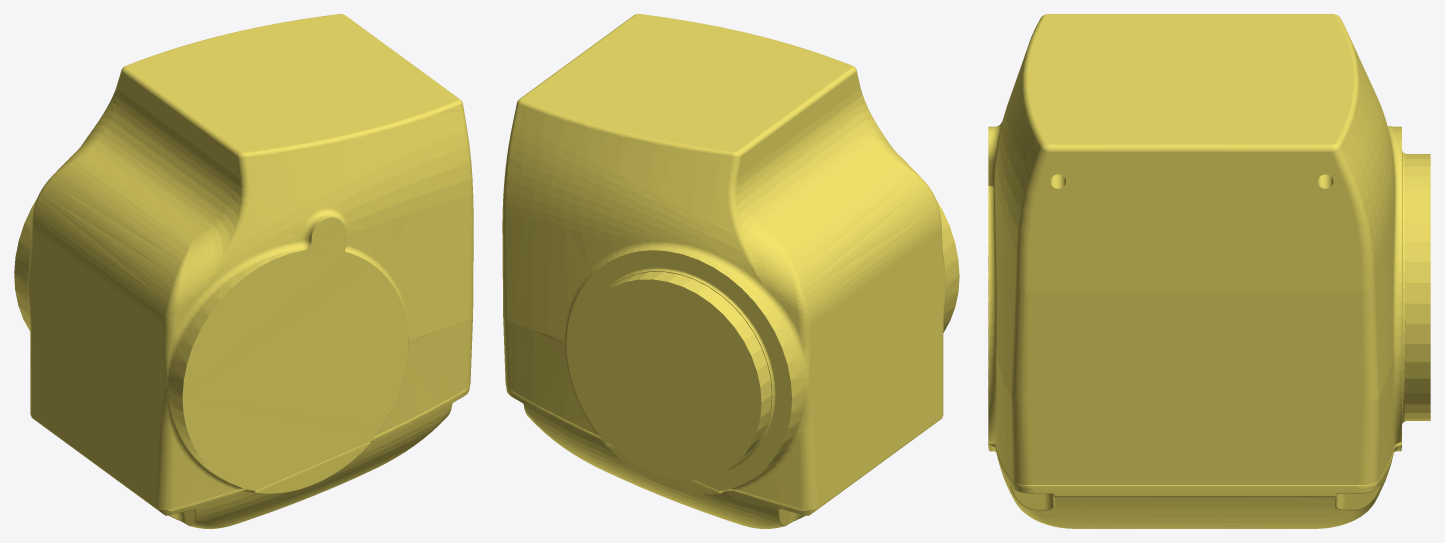
The model's file is FanucLRMate200iCLink3.dae.
The picture shows the model from 3 angles, left to right: view 1: azimuth 30°, elevation 25°; view 2: azimuth 150°, elevation 25°; view 3: azimuth 270°, elevation 25°; orthographic projection. The views are drawn at different scales.
Parts seen in each view (by area): view 1: Fanuc200iDLink3; view 2: Fanuc200iDLink3; view 3: Fanuc200iDLink3.
Boxes of the visible parts, x1,y1,x2,y2 form: Fanuc200iDLink3: (14, 14, 473, 528); Fanuc200iDLink3: (502, 14, 959, 528); Fanuc200iDLink3: (988, 14, 1430, 528).
Bounding box in the file's own units: 0.1384 × 0.139 × 0.1633.
